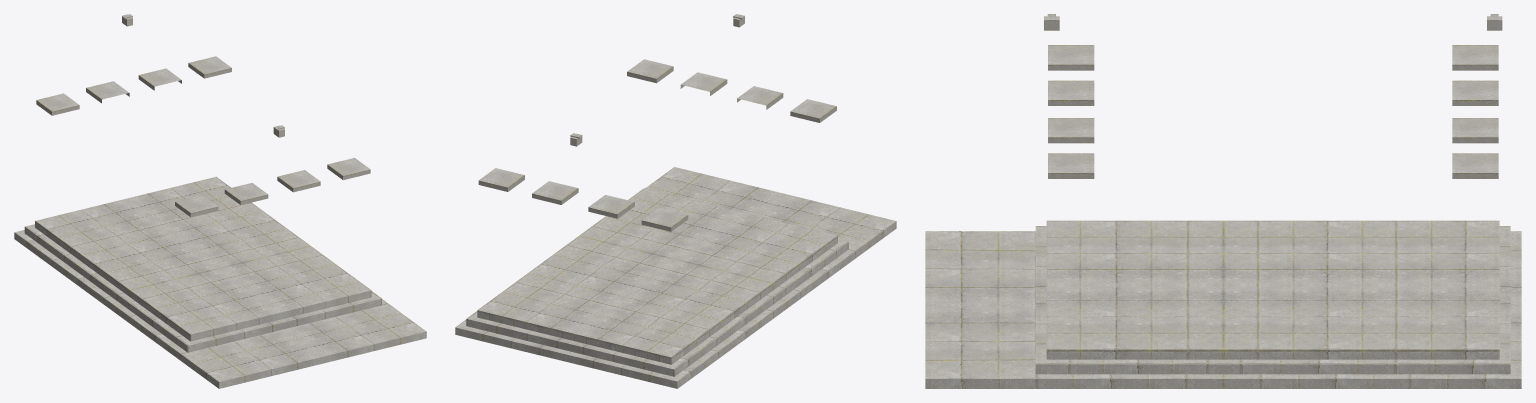
Rendered from hele_temple_b_base.dae.
3 renders of one model, left to right at view 1: azimuth 30°, elevation 25°; view 2: azimuth 150°, elevation 25°; view 3: azimuth 270°, elevation 25°, orthographic. The views are drawn at different scales.
Visible parts, largest first — view 1: Tiles; view 2: Tiles; view 3: Tiles.
Part boxes in pixels (x1,y1,x2,y2): Tiles: (14, 14, 426, 388); Tiles: (455, 14, 896, 388); Tiles: (925, 14, 1521, 388).
Bounding box in the file's own units: 16.85 × 15.89 × 28.8.
